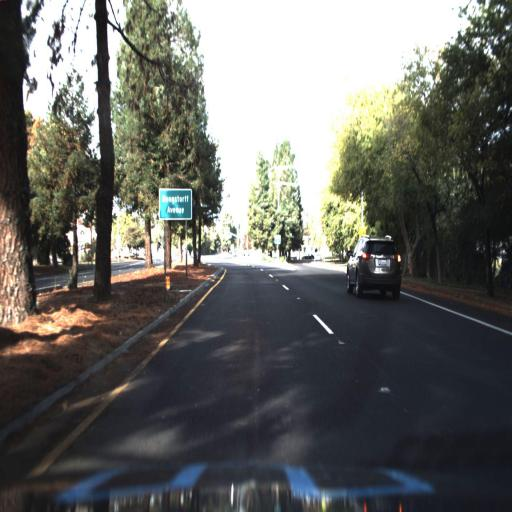car: (346, 233, 401, 301)
